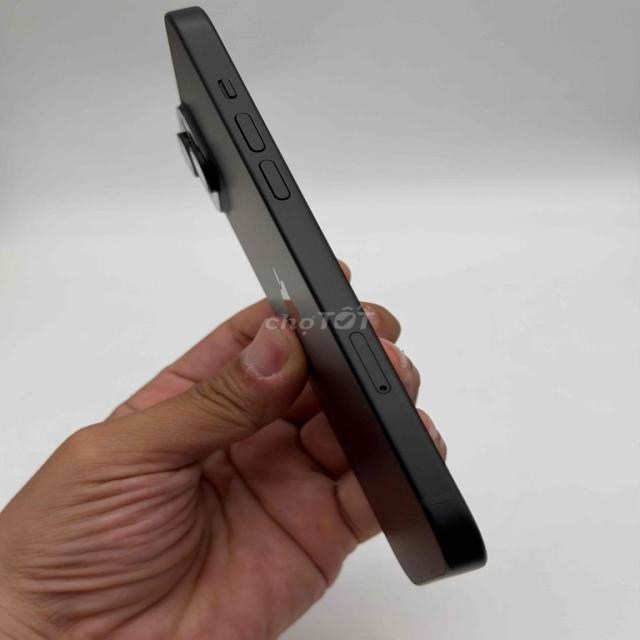gen_15: (135, 0, 516, 594)
